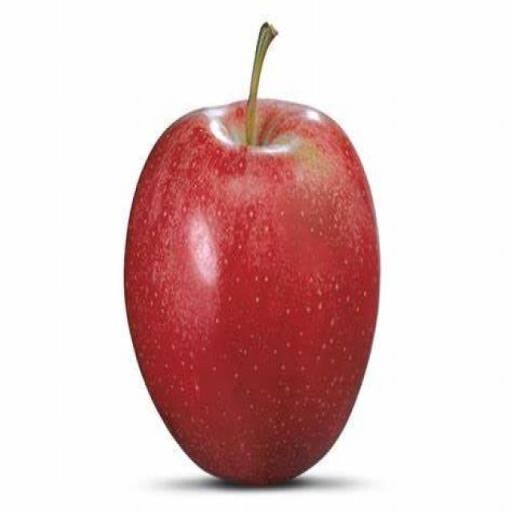fruit: (125, 24, 379, 484)
